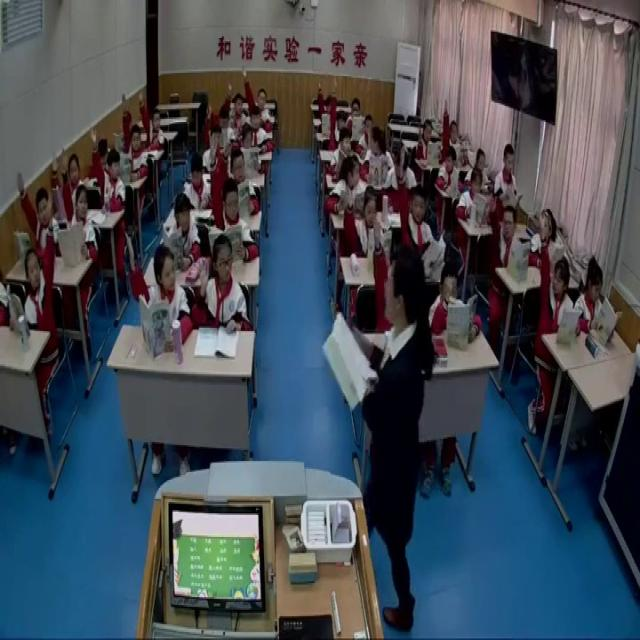distracted: (325, 158, 368, 220), (360, 127, 395, 191), (436, 145, 459, 192)
focused: (575, 256, 620, 344), (164, 191, 204, 277), (496, 141, 524, 220), (454, 167, 491, 224), (243, 104, 275, 160), (184, 158, 210, 214), (331, 128, 356, 177), (412, 117, 436, 162), (472, 143, 492, 192), (348, 97, 364, 133)
raising_hand: (123, 230, 191, 345), (209, 130, 257, 264), (16, 196, 56, 341), (192, 234, 248, 336), (534, 208, 575, 334), (59, 141, 97, 259), (430, 264, 483, 346), (12, 166, 61, 253), (395, 144, 434, 252), (369, 212, 400, 336), (485, 188, 525, 266), (88, 126, 124, 212), (48, 147, 88, 219), (344, 183, 382, 254), (120, 94, 149, 182), (240, 66, 275, 133), (136, 86, 167, 157), (221, 73, 248, 136), (440, 96, 464, 165), (328, 74, 349, 150), (204, 98, 232, 148), (318, 78, 335, 138)
